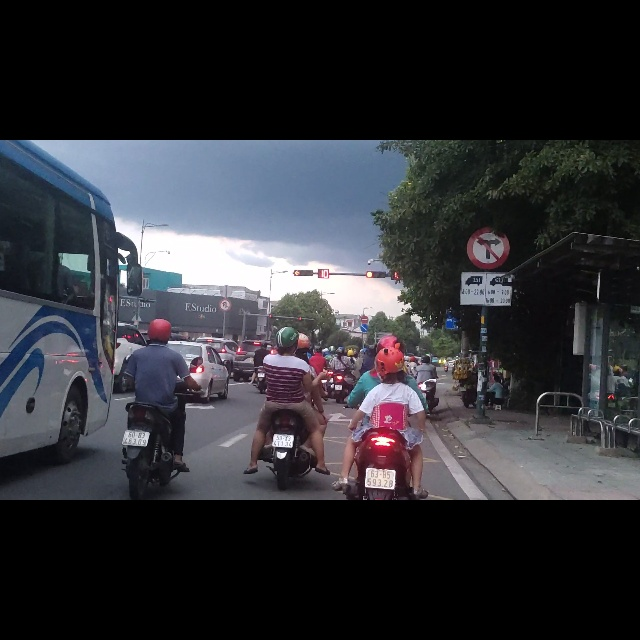bien_hieu_lenh: (467, 155, 510, 232), (460, 234, 512, 295), (218, 281, 232, 305), (360, 327, 369, 343), (360, 312, 369, 326)
